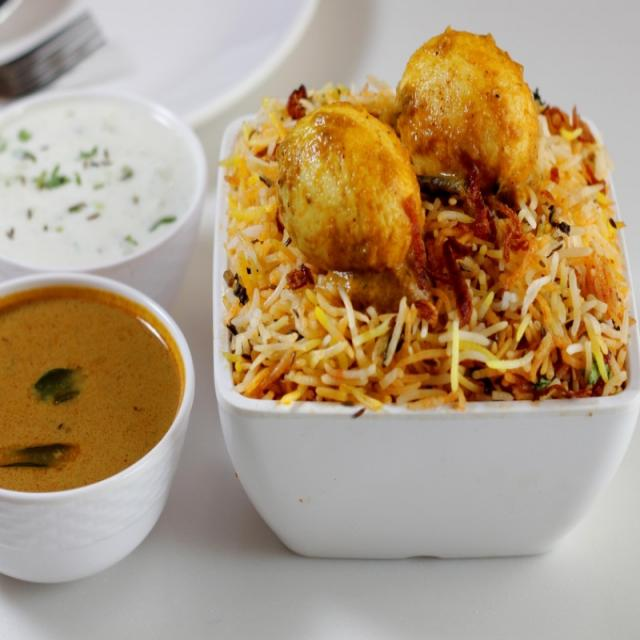Biryani: (210, 17, 640, 432)
